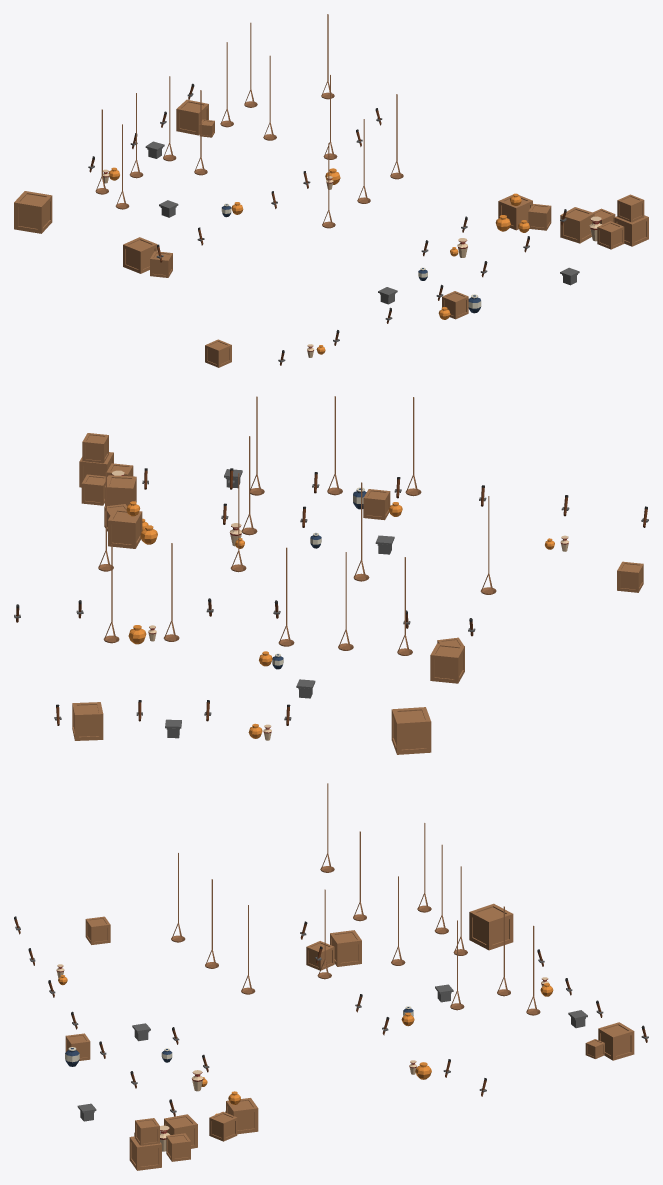
The model's file is extraDetails.glb.
The picture shows the model from 3 angles, top to bottom: view 1: azimuth 30°, elevation 25°; view 2: azimuth 150°, elevation 25°; view 3: azimuth 270°, elevation 25°; orthographic projection. The views are drawn at different scales.
Parts seen in each view (by area): view 1: Cube.008; view 2: Cube.008; view 3: Cube.008.
Boxes of the visible parts, <box> form: Cube.008: <box>14,14,648,367</box>; Cube.008: <box>14,396,648,754</box>; Cube.008: <box>14,783,648,1170</box>.
Bounding box in the file's own units: 131 × 41.79 × 147.
